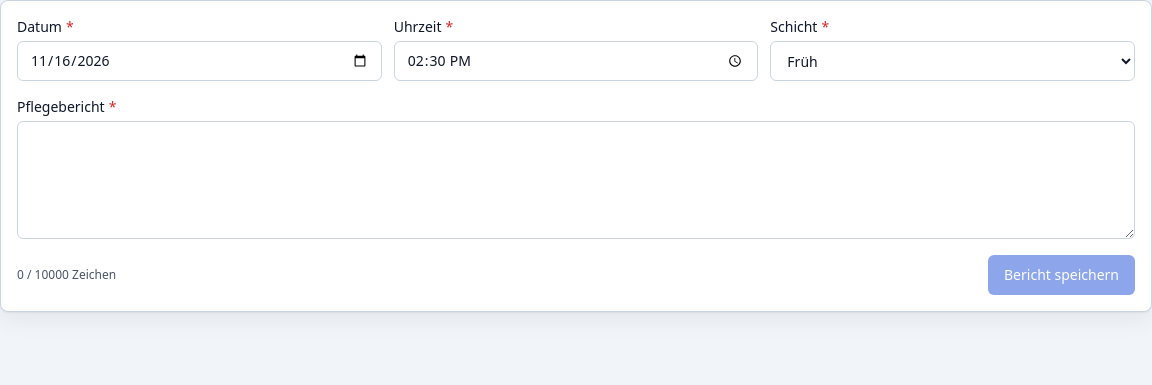
CareReportForm › clears the field and confirms after a successful save
This screenshot has width=1152, height=385.
Type "Gespeicherter Text" into the text box labelled "Pflegebericht*" at coordinates (576, 180), box x1=17 y1=121 x2=1135 y2=239
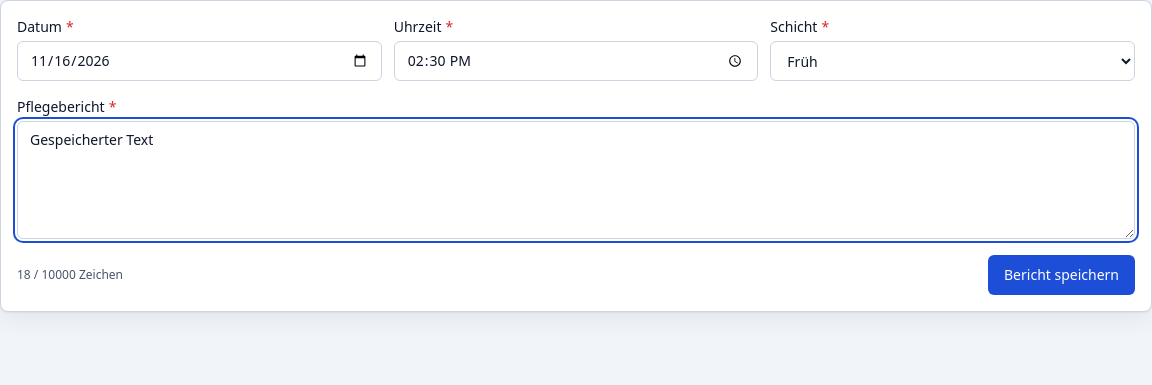
Click the button "Bericht speichern" at coordinates (1062, 275), box x1=988 y1=255 x2=1135 y2=295
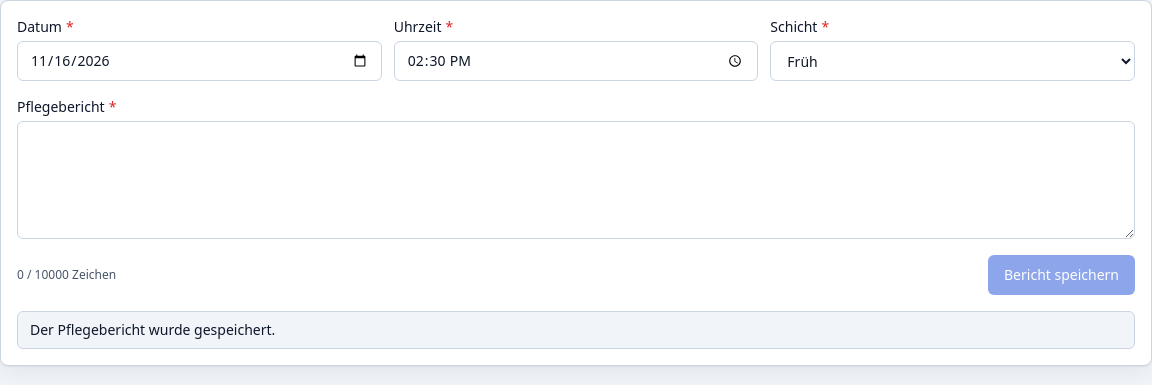
Result: the text "Der Pflegebericht wurde gespeichert." is shown at x1=17 y1=311 x2=1135 y2=349
Result: the text box labelled "Pflegebericht*" is empty at x1=17 y1=121 x2=1135 y2=239
